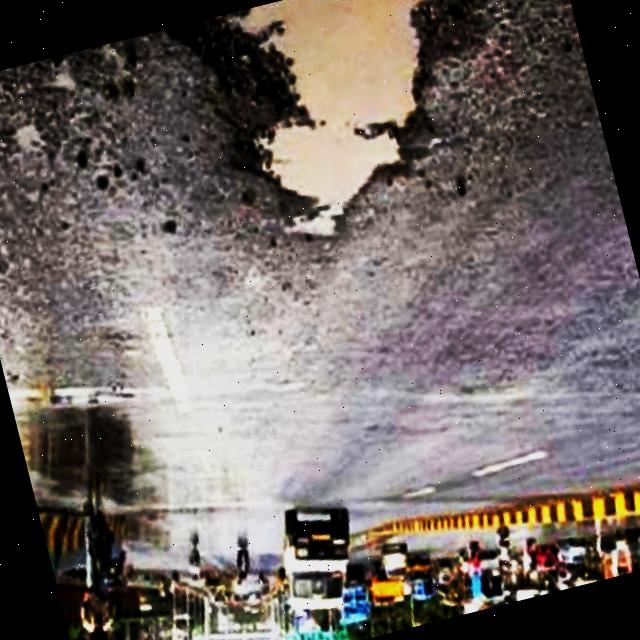pothole: (142, 0, 541, 269), (0, 38, 151, 180)
